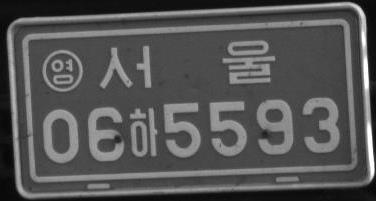0: (41, 108, 80, 163)
3: (302, 96, 340, 153)
5: (162, 100, 202, 159), (209, 99, 248, 157)
6: (87, 106, 125, 163)
9: (256, 97, 293, 156)
서울_D: (100, 38, 275, 92)
영: (41, 47, 84, 93)
하: (129, 106, 158, 157)
